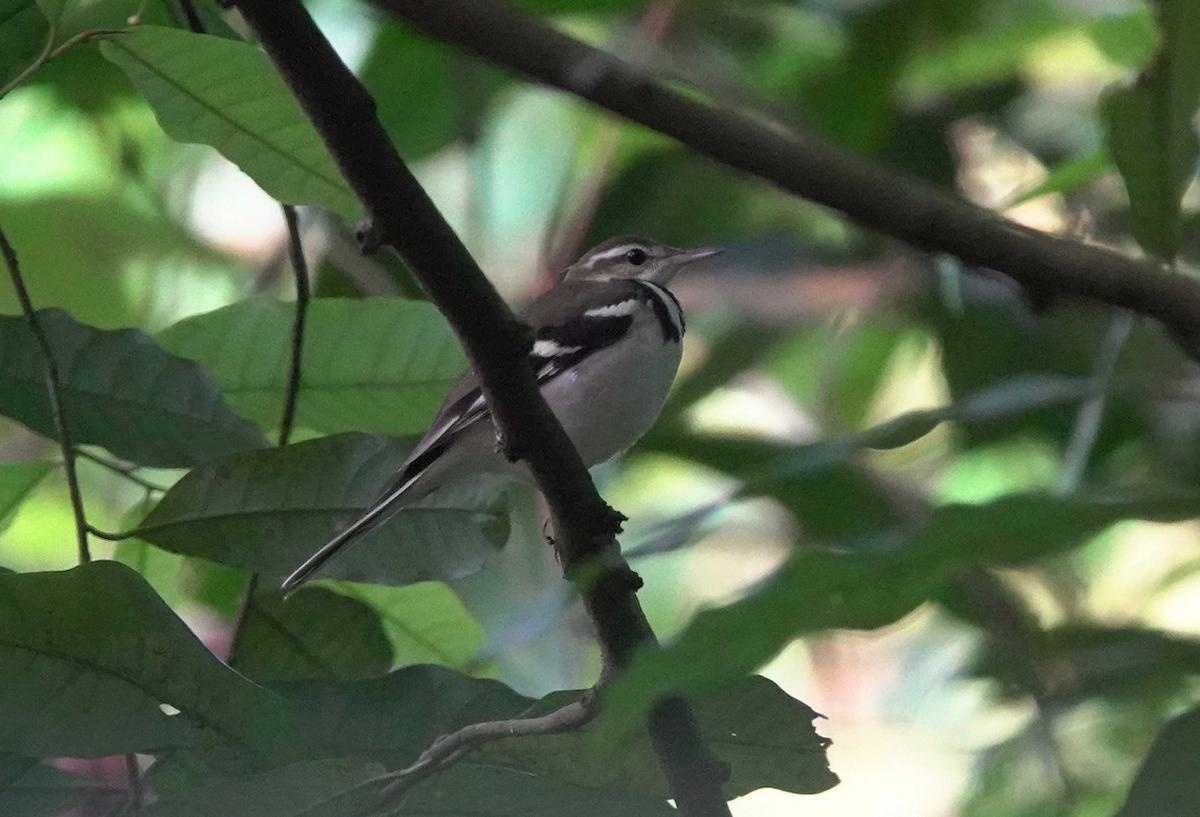wagtail: (271, 209, 745, 626)
